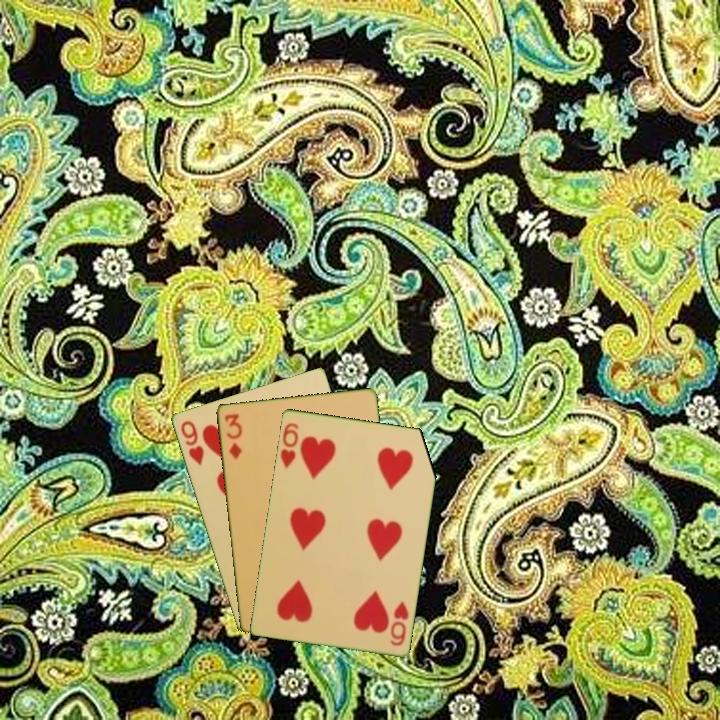3d: (221, 410, 244, 462)
6h: (277, 419, 301, 471), (387, 597, 411, 649)
9h: (177, 417, 206, 468)
